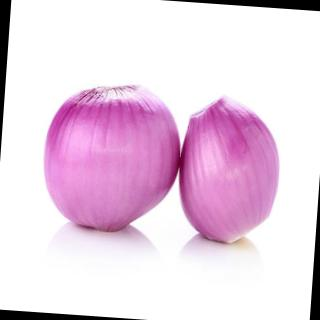Bawang Merah: (35, 76, 188, 237), (173, 90, 288, 252)
